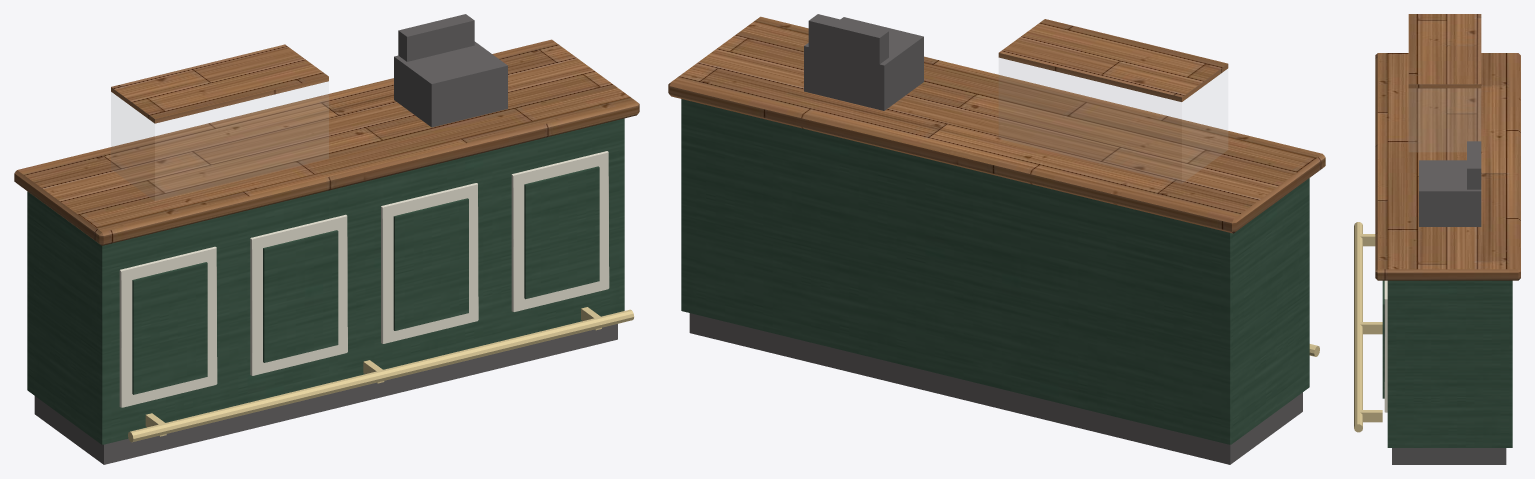
Rendered from counter.glb.
3 renders of one model, left to right at view 1: azimuth 30°, elevation 25°; view 2: azimuth 150°, elevation 25°; view 3: azimuth 270°, elevation 25°, orthographic. The views are drawn at different scales.
Visible parts, largest first — view 1: counter_boards, counter_wood, counter_trim, counter_dark, counter_glass, counter_brass; view 2: counter_boards, counter_wood, counter_dark, counter_glass; view 3: counter_wood, counter_boards, counter_dark, counter_glass, counter_brass, counter_trim.
Boxes of the visible parts, box(x1,y1,x2,y2) form: counter_boards: box(27, 118, 624, 444); counter_wood: box(14, 39, 639, 245); counter_trim: box(119, 151, 609, 407); counter_dark: box(34, 14, 617, 464); counter_glass: box(111, 82, 328, 200); counter_brass: box(128, 307, 634, 442); counter_boards: box(681, 99, 1309, 444); counter_wood: box(668, 16, 1325, 233); counter_dark: box(689, 14, 1302, 464); counter_glass: box(999, 58, 1227, 182); counter_wood: box(1375, 14, 1520, 280); counter_boards: box(1382, 280, 1512, 447); counter_dark: box(1392, 141, 1506, 464); counter_glass: box(1409, 89, 1480, 151); counter_brass: box(1354, 222, 1382, 432); counter_trim: box(1384, 280, 1387, 412).
Bounding box in the file's own units: 2.48 × 1.42 × 0.802.
6 materials, 2 textured.
